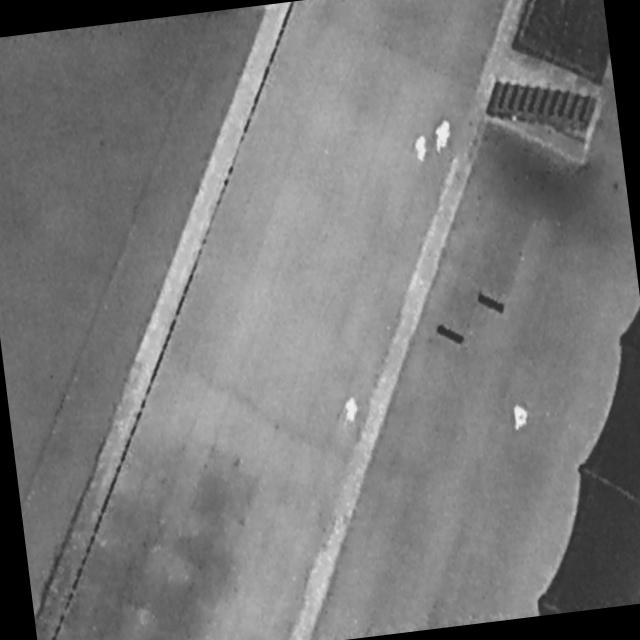person: (430, 115, 457, 156), (408, 130, 433, 167), (339, 392, 363, 428), (511, 403, 532, 432)
